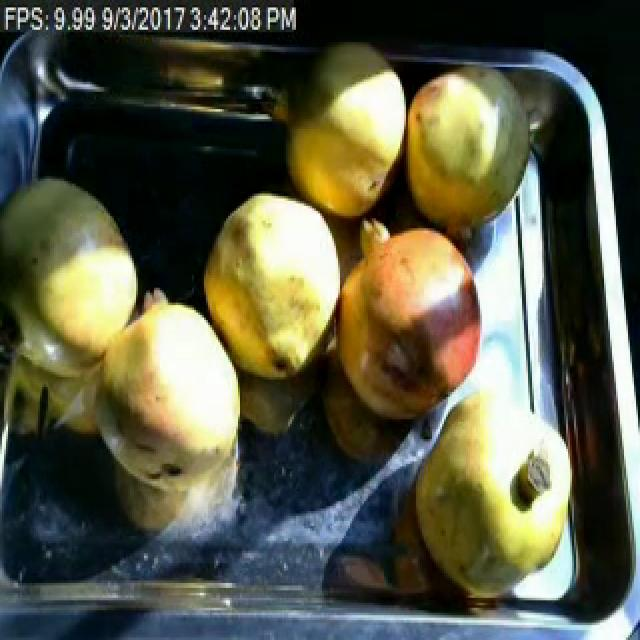fruit: (68, 271, 270, 514), (316, 203, 496, 444), (402, 375, 582, 600), (190, 181, 360, 402), (400, 62, 556, 258)
